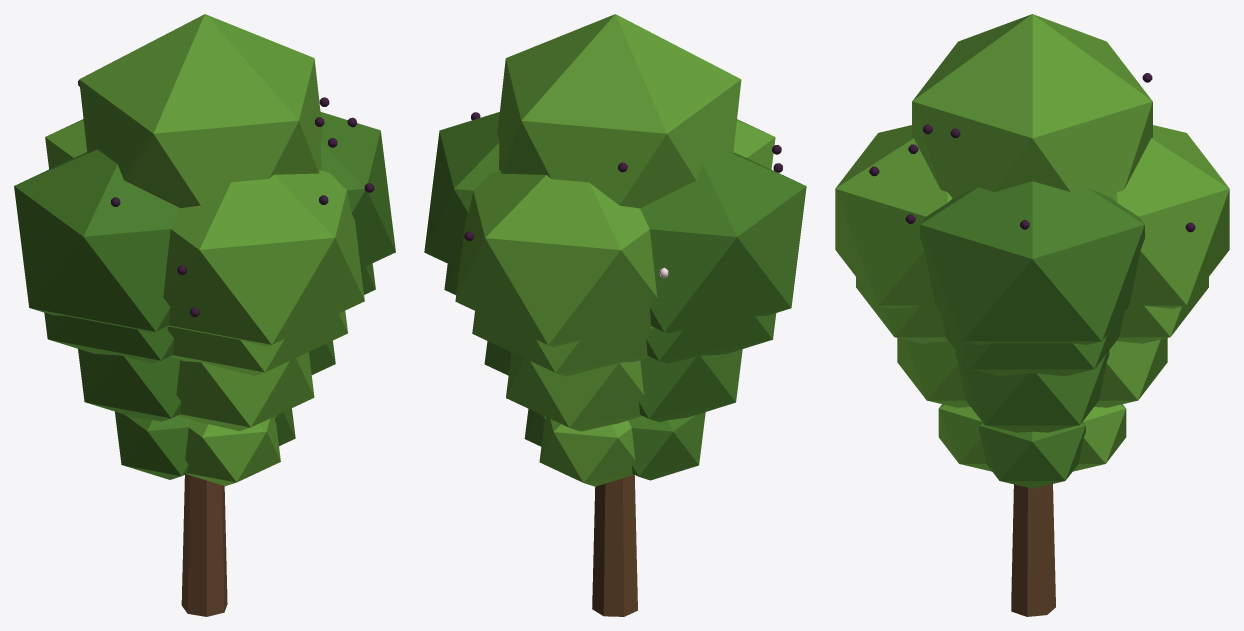
Rendered from Crop_Fruit_Mulberry.fbx.
3 views of the same model, side by side, from view 1: azimuth 30°, elevation 25°; view 2: azimuth 150°, elevation 25°; view 3: azimuth 270°, elevation 25° (orthographic).
Parts seen in each view (by area): view 1: Crop_Fruit_Mulberry__S4, Crop_Fruit_Mulberry__S2, Crop_Fruit_Mulberry__S1, Crop_Fruit_Mulberry__S3; view 2: Crop_Fruit_Mulberry__S4, Crop_Fruit_Mulberry__S2, Crop_Fruit_Mulberry__S1, Crop_Fruit_Mulberry__S3; view 3: Crop_Fruit_Mulberry__S4, Crop_Fruit_Mulberry__S2, Crop_Fruit_Mulberry__S1, Crop_Fruit_Mulberry__S3.
Boxes of the visible parts, box(x1,y1,x2,y2) form: Crop_Fruit_Mulberry__S4: box(14, 14, 395, 616); Crop_Fruit_Mulberry__S2: box(78, 340, 335, 430); Crop_Fruit_Mulberry__S1: box(115, 408, 295, 486); Crop_Fruit_Mulberry__S3: box(44, 263, 375, 375); Crop_Fruit_Mulberry__S4: box(424, 14, 806, 616); Crop_Fruit_Mulberry__S2: box(484, 341, 742, 431); Crop_Fruit_Mulberry__S1: box(524, 409, 705, 486); Crop_Fruit_Mulberry__S3: box(444, 264, 776, 376); Crop_Fruit_Mulberry__S4: box(835, 14, 1229, 616); Crop_Fruit_Mulberry__S2: box(897, 338, 1167, 432); Crop_Fruit_Mulberry__S1: box(938, 404, 1126, 488); Crop_Fruit_Mulberry__S3: box(856, 277, 1208, 376).
Bounding box in the file's own units: 0.551 × 0.888 × 0.5353.
